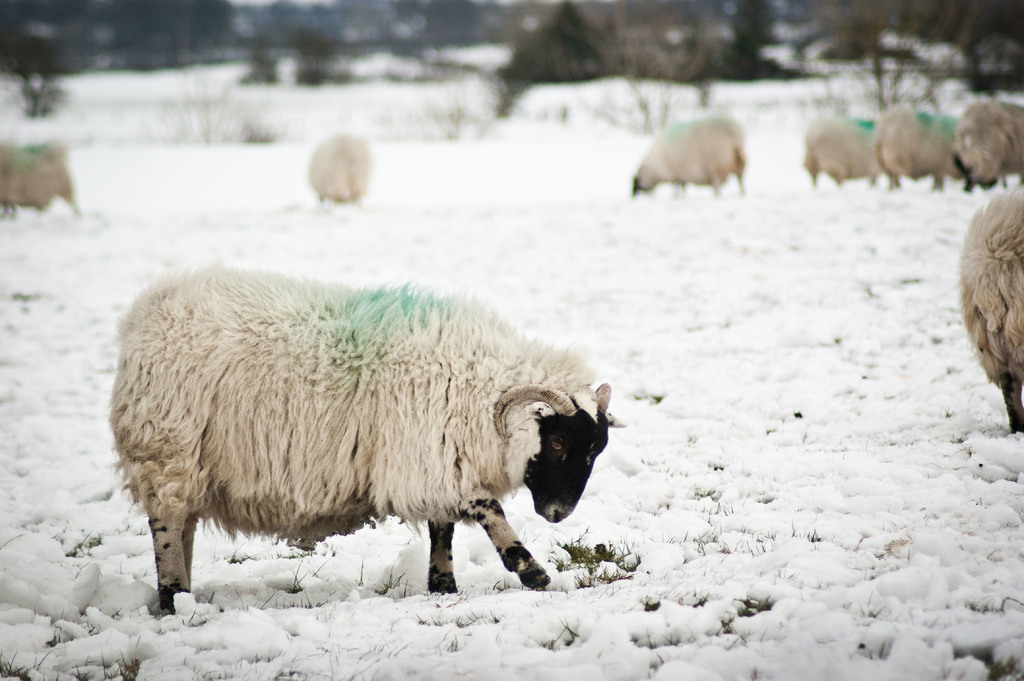sheep: (629, 114, 751, 193), (305, 130, 371, 198)
